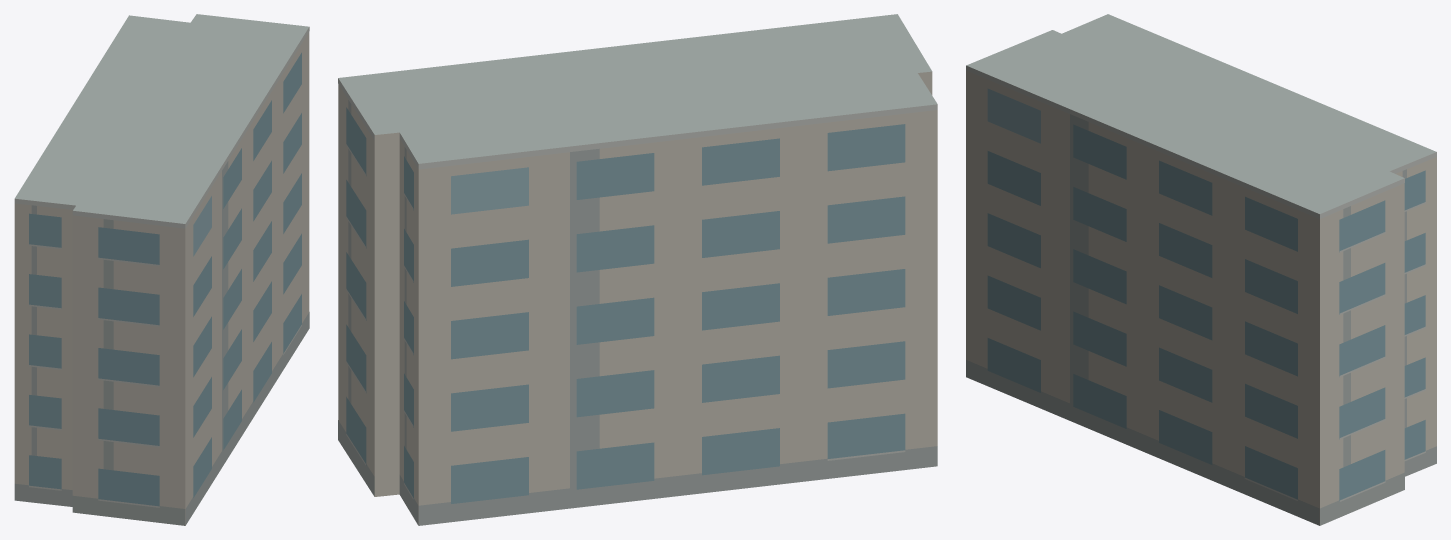
Rendered from survey-upis-33006636.glb.
3 renders of one model, left to right at view 1: azimuth 30°, elevation 25°; view 2: azimuth 150°, elevation 25°; view 3: azimuth 270°, elevation 25°, orthographic. The views are drawn at different scales.
Parts seen in each view (by area): view 1: survey-upis-33006636.tmp; view 2: survey-upis-33006636.tmp; view 3: survey-upis-33006636.tmp.
Boxes of the visible parts, <box> form: survey-upis-33006636.tmp: <box>14,14,309,525</box>; survey-upis-33006636.tmp: <box>338,14,937,525</box>; survey-upis-33006636.tmp: <box>966,14,1436,525</box>.
Size of the model in its own units: 21.64 by 15.7 by 21.5.
